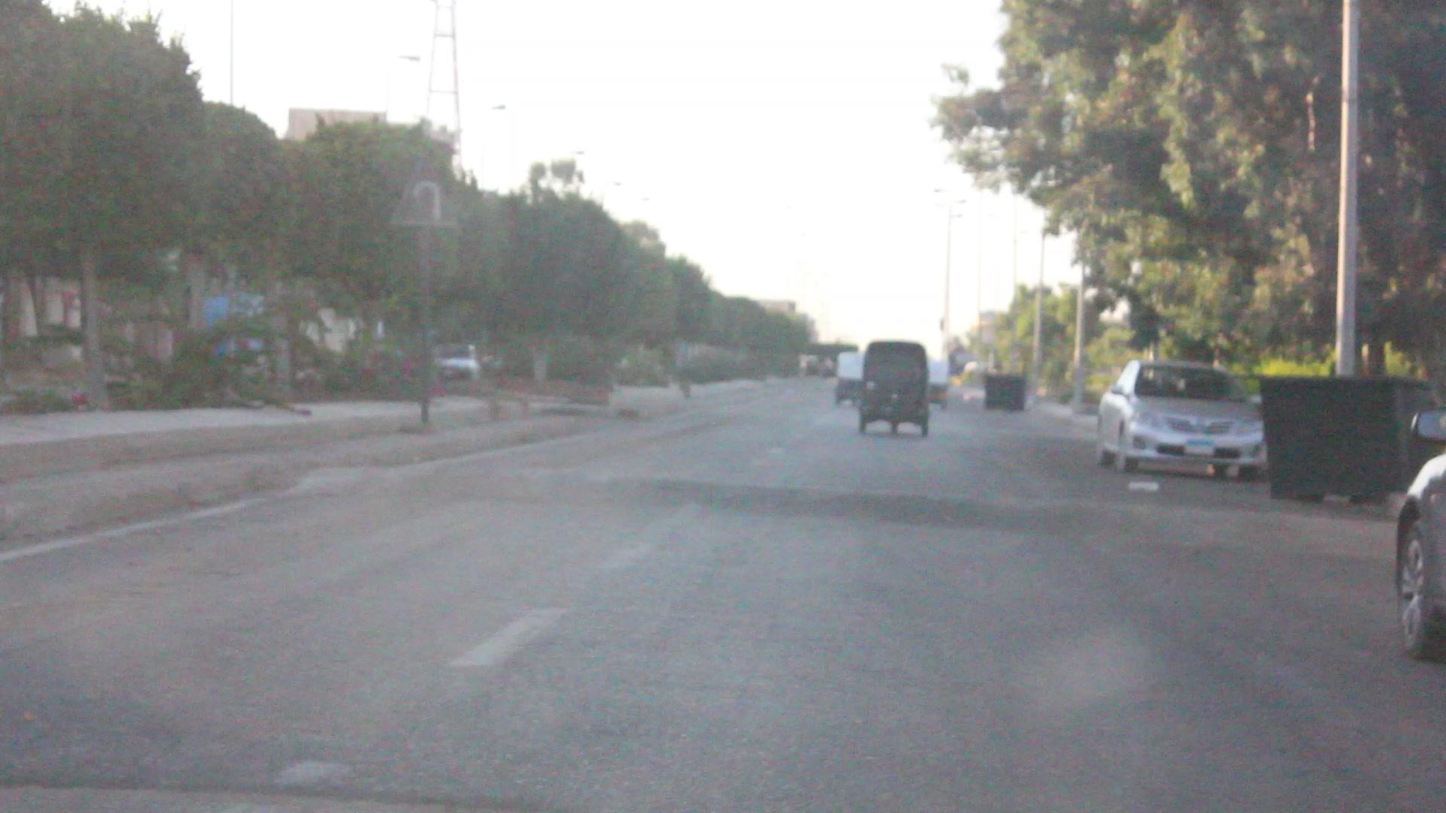Bump: (289, 465, 1400, 553)
